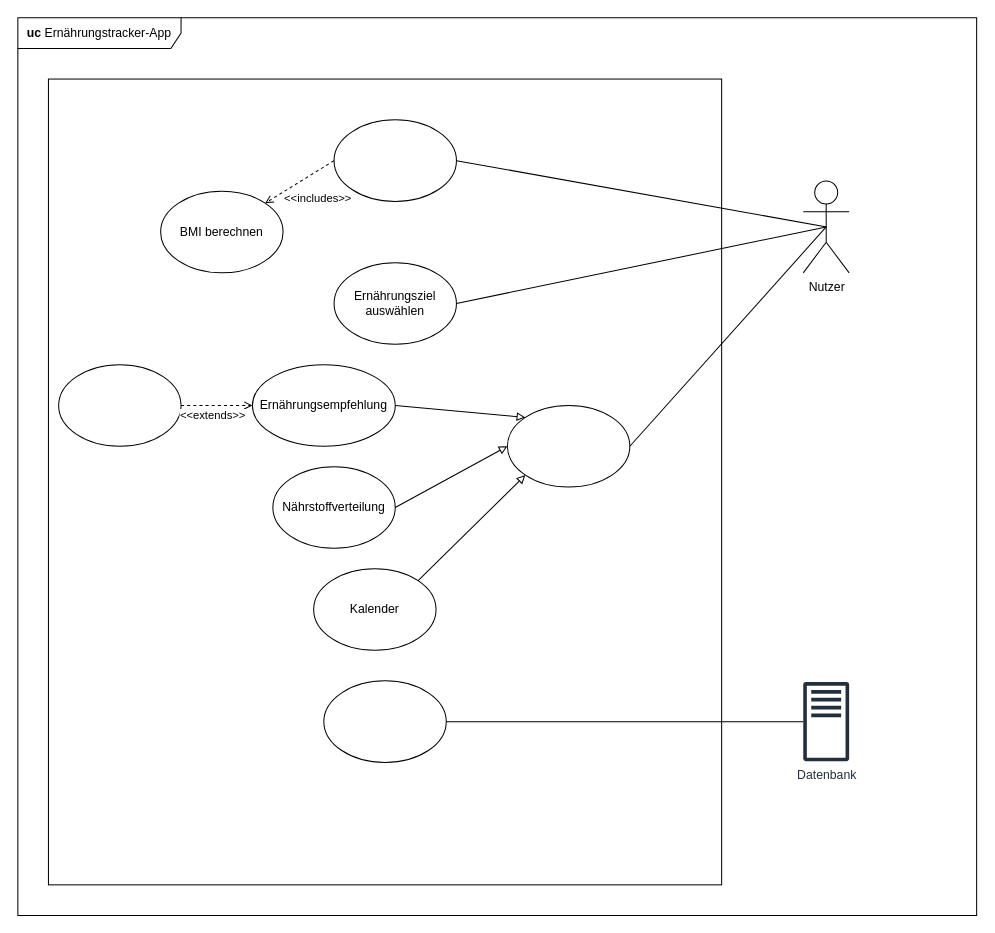
The diagram is 995 pixels wide and 933 high, and some of its shapes have lost their labels. Here are the shapes that lost their labels. From the top down, the centre of each, then its label:
At [394,160]: "Körperdaten eingeben".
At [119,405]: "Supplements".
At [568,445]: "{abstract} Ansichten auswählen".
At [384,721]: "Daten speichern".
